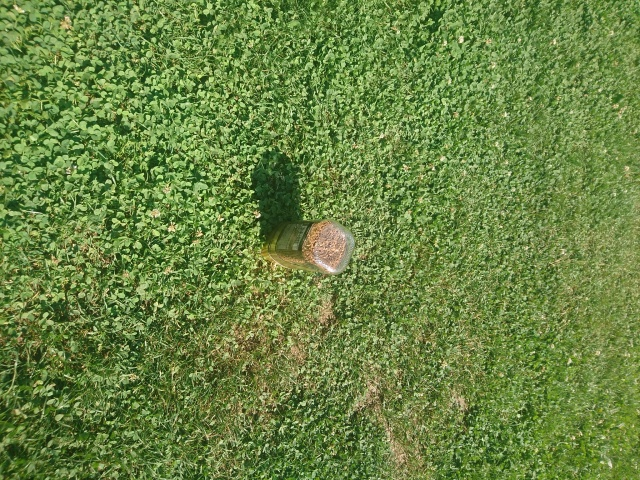Nescafe Gold 225g: (256, 215, 359, 278)
